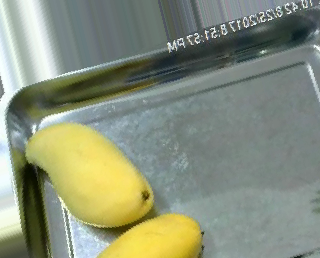Mango: (22, 119, 153, 228), (95, 211, 209, 257)
